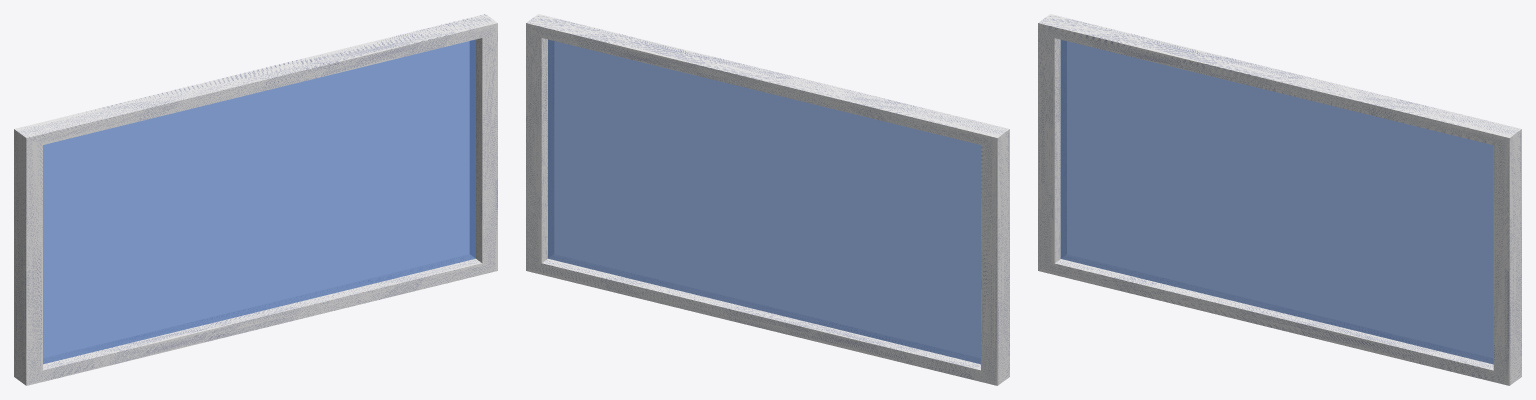
The model's file is glassWall2.dae.
3 renders of one model, left to right at view 1: azimuth 30°, elevation 25°; view 2: azimuth 150°, elevation 25°; view 3: azimuth 330°, elevation 25°, orthographic.
Visible parts, largest first — view 1: SketchUp (×5); view 2: SketchUp (×4); view 3: SketchUp (×4).
Boxes of the visible parts, x1,y1,x2,y2 form: SketchUp (×5): (14, 14, 497, 385); SketchUp (×4): (526, 14, 1009, 385); SketchUp (×4): (1038, 14, 1521, 385).
Size of the model in its own units: 172 by 7.87 by 86.61.
